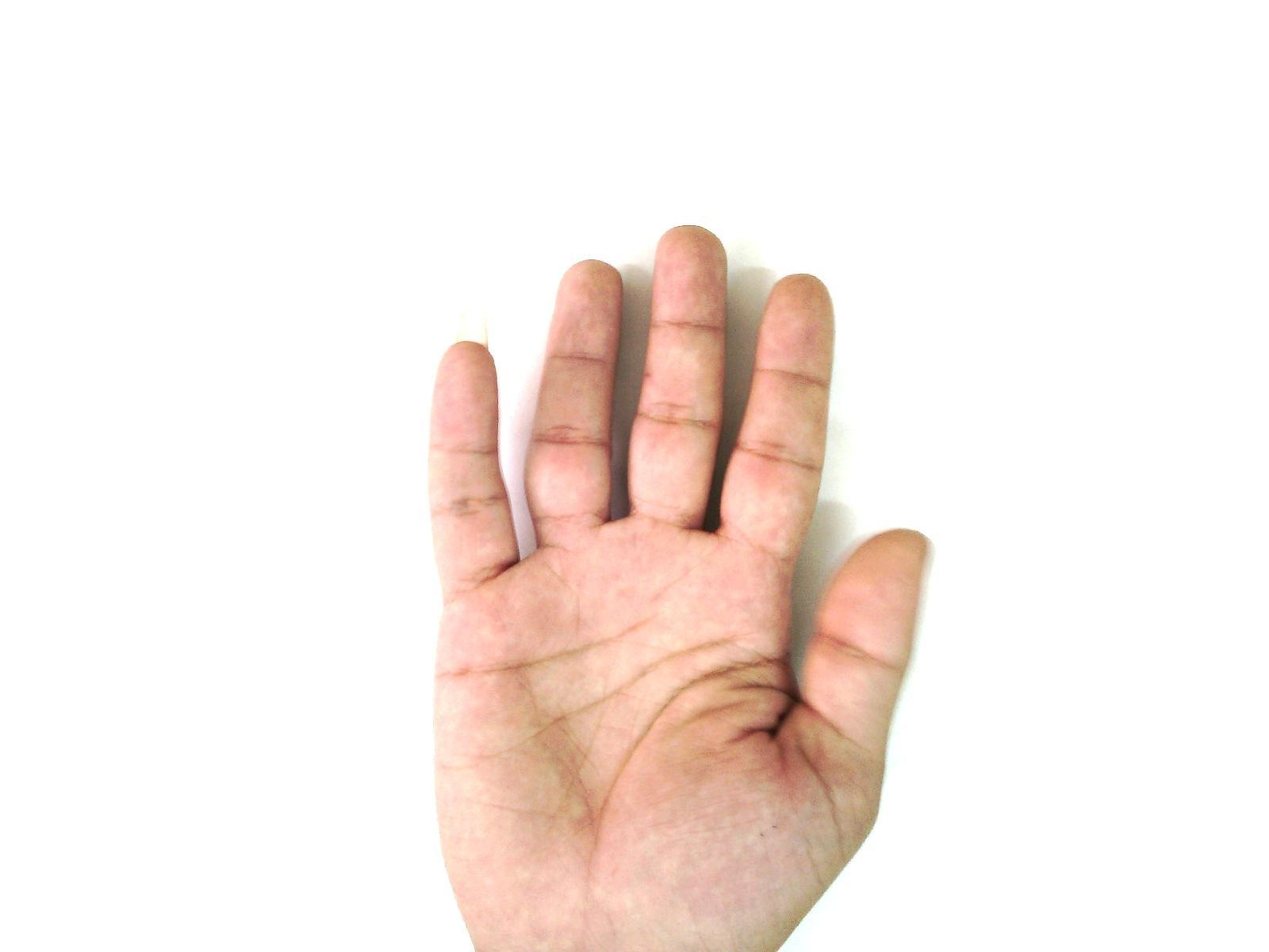open_palm: (424, 224, 935, 951)
